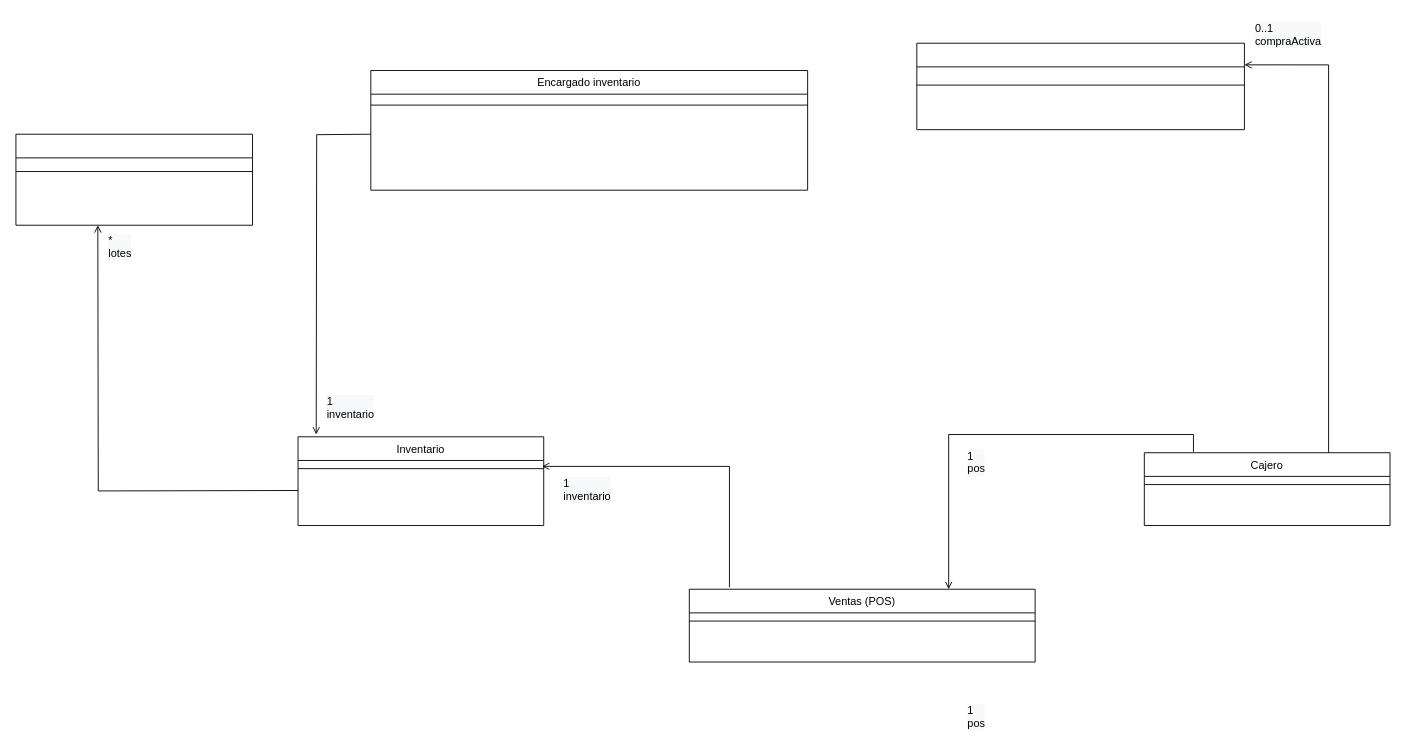
Image size: 1406x750. Some labels were removed from this diagram. Here are the shapes that lost their labels. From the top down, the centre of each, then its label:
pixel 1080 86: Compra
pixel 134 179: Lote
